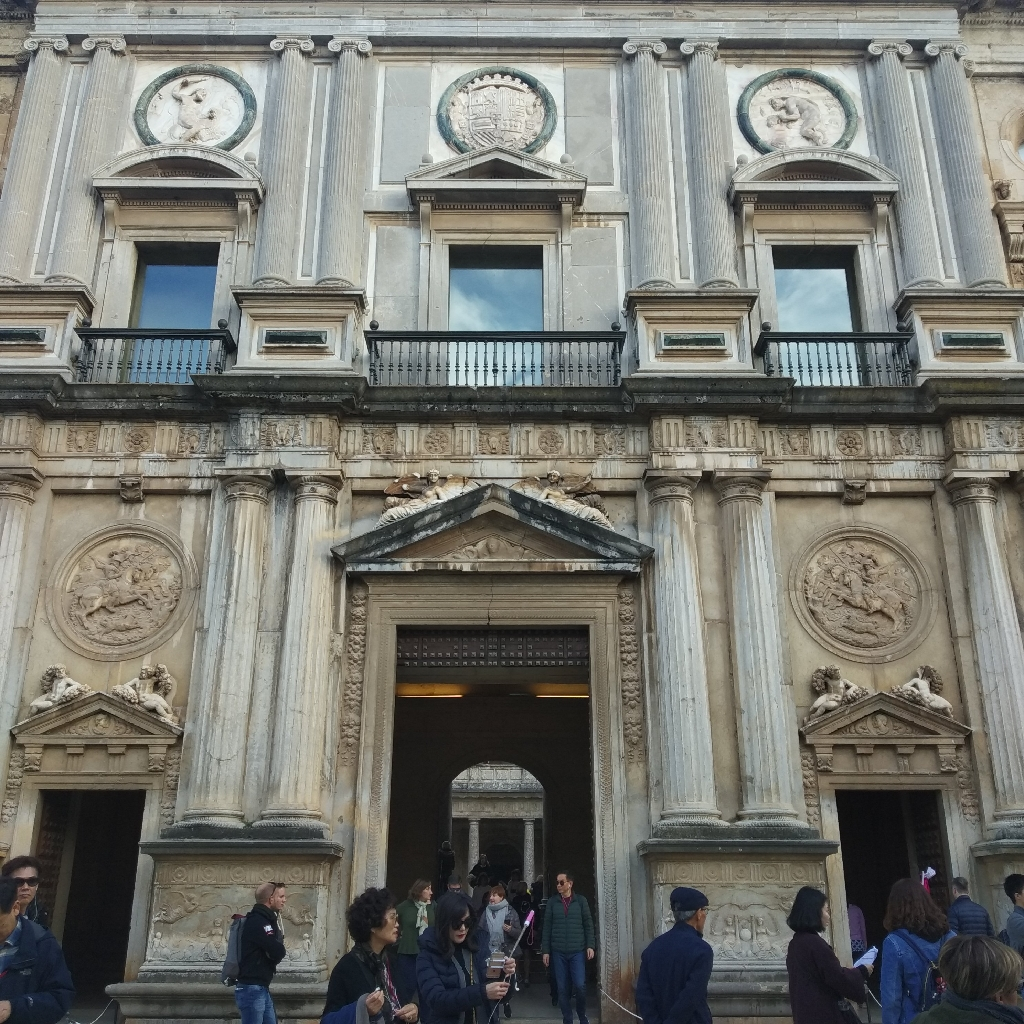fronton: (326, 483, 658, 580), (4, 688, 186, 751), (798, 689, 974, 751), (728, 144, 904, 202), (401, 143, 590, 194)
fronton-curvo: (86, 142, 264, 198)
vano-adintelado: (357, 594, 626, 1022), (818, 767, 974, 1012), (22, 770, 154, 1017), (97, 222, 239, 385), (753, 225, 887, 390), (427, 222, 560, 387)
